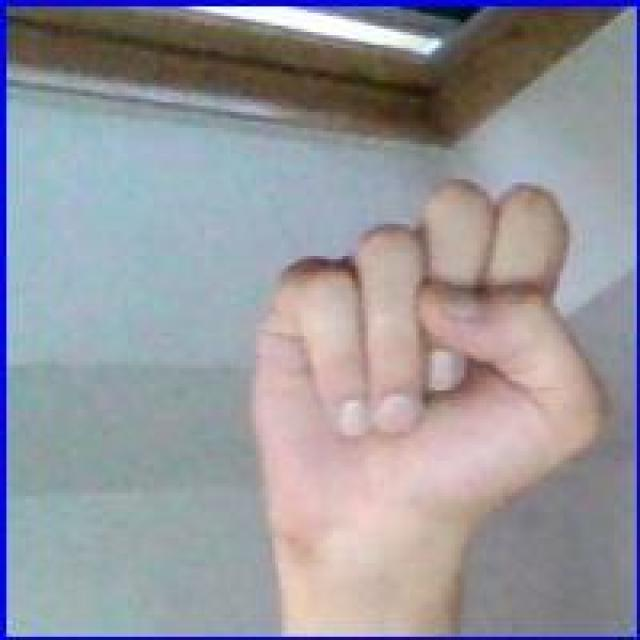S: (243, 171, 614, 562)
